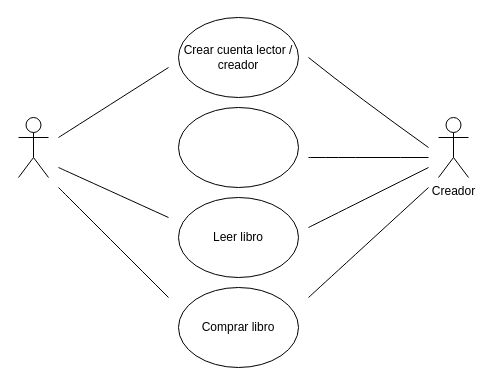
Image size: 492x385. Some labels were removed from this diagram. The shapes that lost their labels are listed below. From the top down, each one's centre as x and y in pixels, then its label:
At point (33, 147): "Lector".
At point (238, 147): "Publicar libro".
